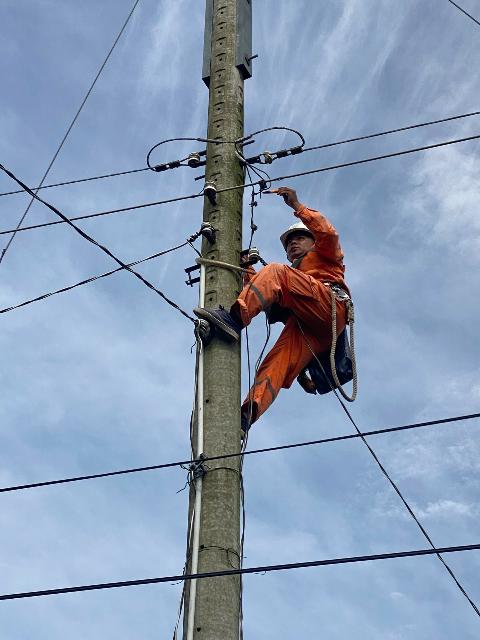helmet: (193, 303, 247, 340), (275, 220, 317, 247)
